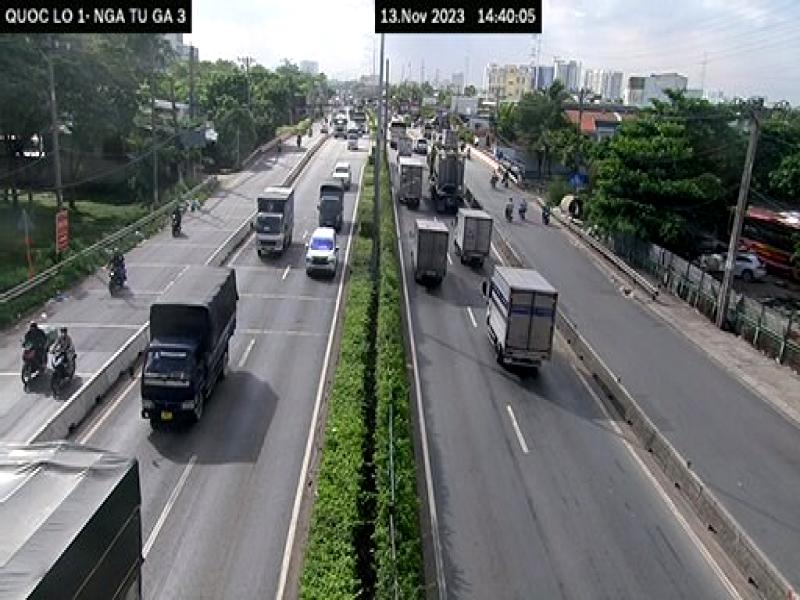truck: (145, 262, 236, 428), (479, 260, 561, 375), (249, 178, 297, 260)
